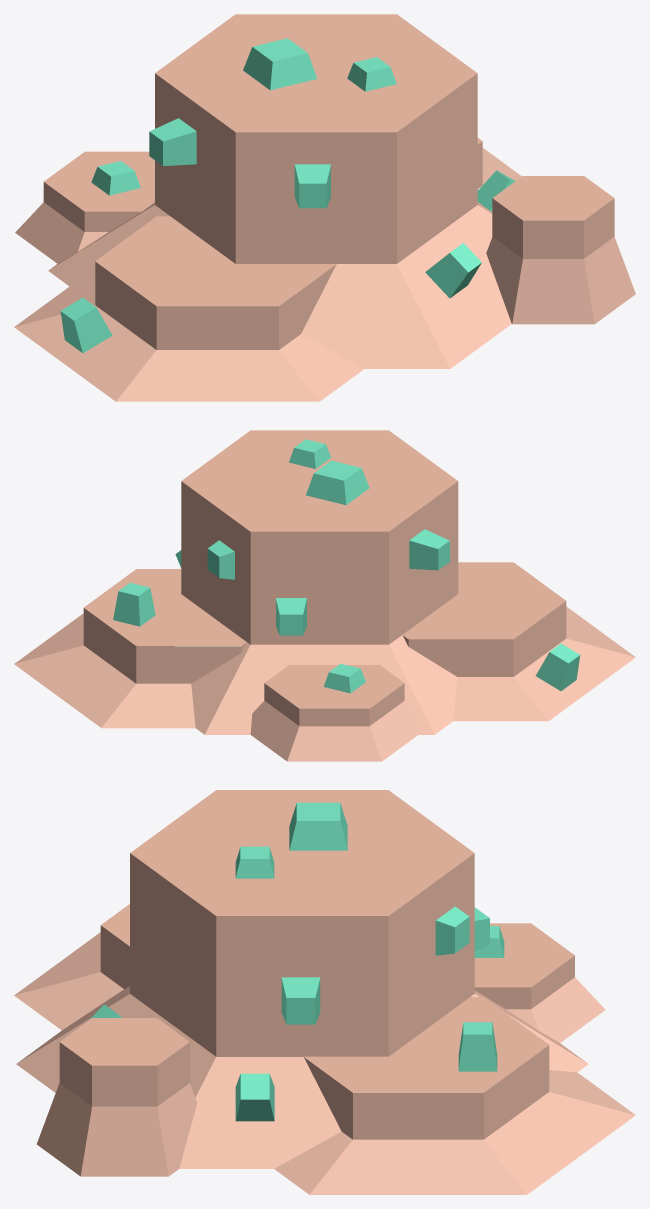
File: rock_crystals.glb
The picture shows the model from 3 angles, top to bottom: view 1: azimuth 30°, elevation 25°; view 2: azimuth 150°, elevation 25°; view 3: azimuth 270°, elevation 25°; orthographic projection. The views are drawn at different scales.
Parts seen in each view (by area): view 1: rock_crystals; view 2: rock_crystals; view 3: rock_crystals.
Boxes of the visible parts, <box> form: rock_crystals: <box>14,14,635,401</box>; rock_crystals: <box>14,430,635,761</box>; rock_crystals: <box>14,790,635,1194</box>.
Bounding box in the file's own units: 0.8509 × 0.3375 × 0.8015.
